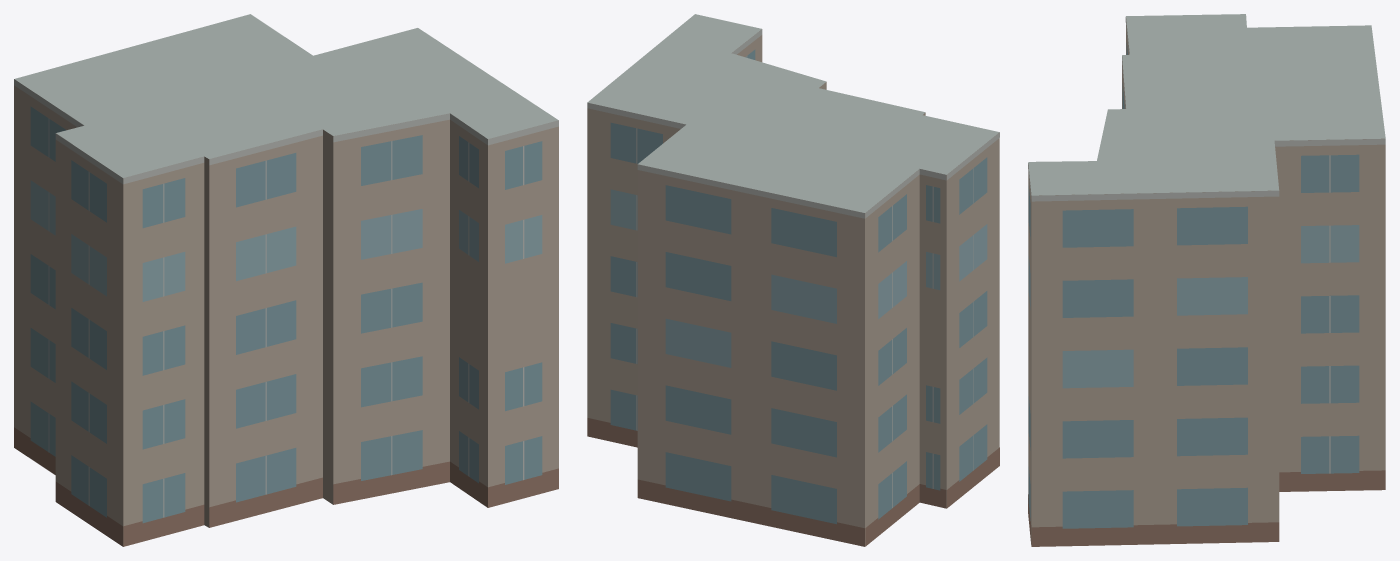
File: survey-upis-32781922.glb
3 renders of one model, left to right at view 1: azimuth 30°, elevation 25°; view 2: azimuth 150°, elevation 25°; view 3: azimuth 270°, elevation 25°, orthographic. The views are drawn at different scales.
Visible parts, largest first — view 1: survey-upis-32781922.tmp; view 2: survey-upis-32781922.tmp; view 3: survey-upis-32781922.tmp.
Boxes of the visible parts, bbox=[...] form: survey-upis-32781922.tmp: bbox=[14, 14, 558, 546]; survey-upis-32781922.tmp: bbox=[587, 14, 999, 546]; survey-upis-32781922.tmp: bbox=[1028, 14, 1385, 546].
Bounding box in the file's own units: 15.98 × 14.4 × 13.29.
